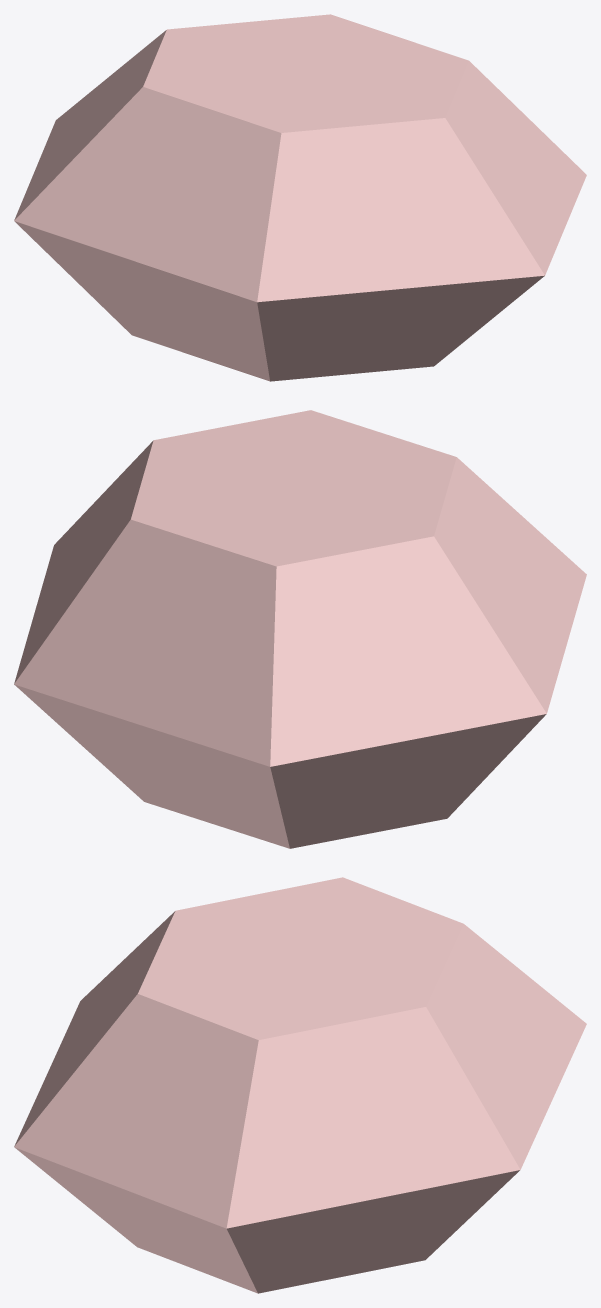
The model's file is SM_Item_Gem_01.glb.
The picture shows the model from 3 angles, top to bottom: view 1: azimuth 30°, elevation 25°; view 2: azimuth 150°, elevation 25°; view 3: azimuth 270°, elevation 25°; orthographic projection. The views are drawn at different scales.
Visible parts, largest first — view 1: SM_Item_Gem_01_00; view 2: SM_Item_Gem_01_00; view 3: SM_Item_Gem_01_00.
Part boxes in pixels (x1,y1,x2,y2): SM_Item_Gem_01_00: (14,14,586,381); SM_Item_Gem_01_00: (14,410,586,848); SM_Item_Gem_01_00: (14,877,586,1293).
Bounding box in the file's own units: 0.1343 × 0.0663 × 0.1254.
Materials: 1 (1 with a texture image).
